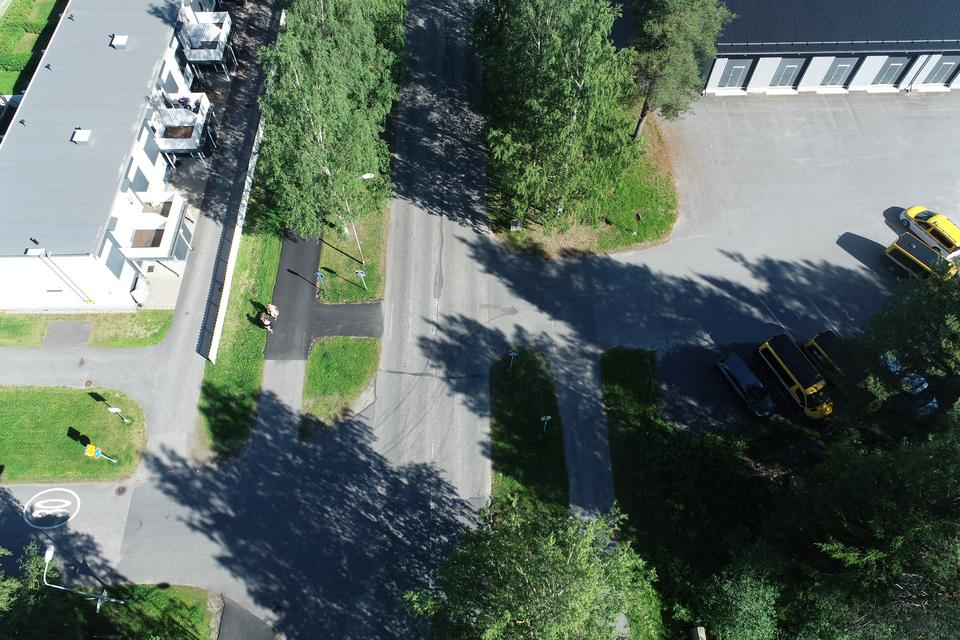intersection: (181, 424, 484, 617), (253, 278, 366, 374)
